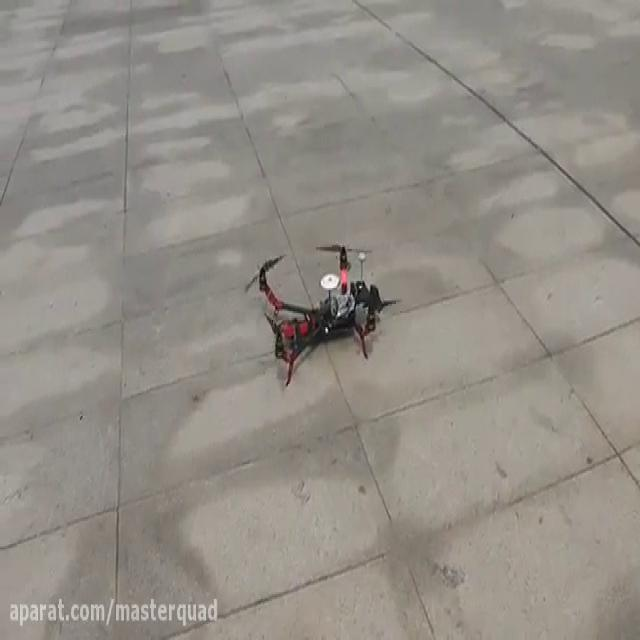drone: (242, 235, 403, 391)
